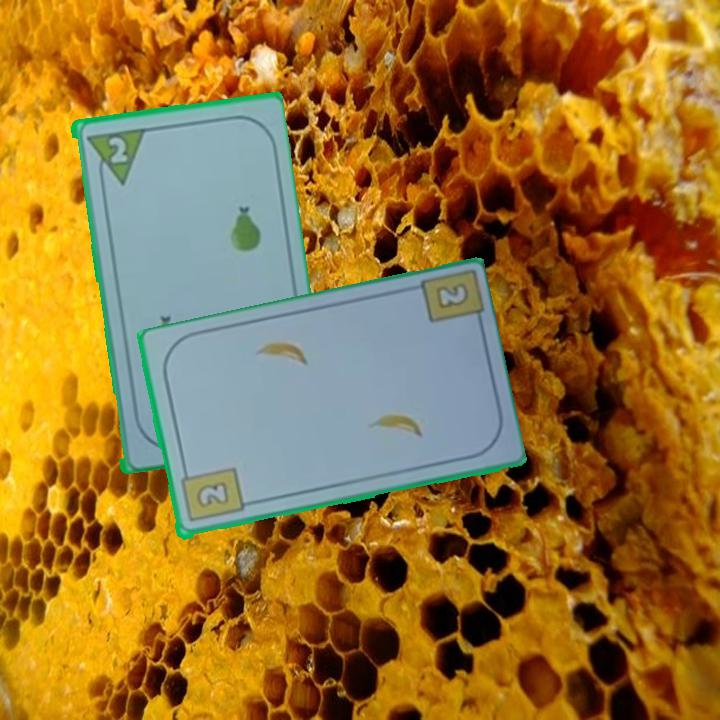2b: (177, 464, 246, 526), (432, 279, 472, 313)
2p: (104, 133, 130, 166)
